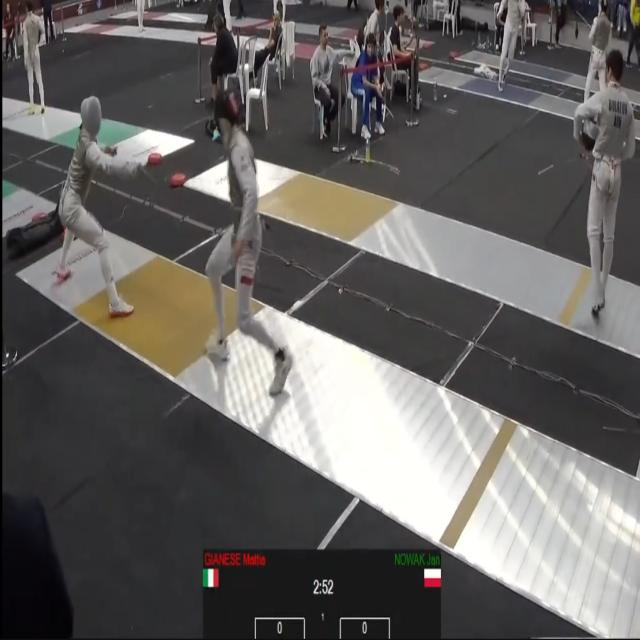fencer: (204, 99, 298, 417), (63, 96, 139, 345)
overlayLeft: (204, 551, 307, 608)
overlayRight: (338, 550, 442, 602)
scoreLeft: (270, 620, 300, 640)
scoreRight: (345, 621, 376, 638)
